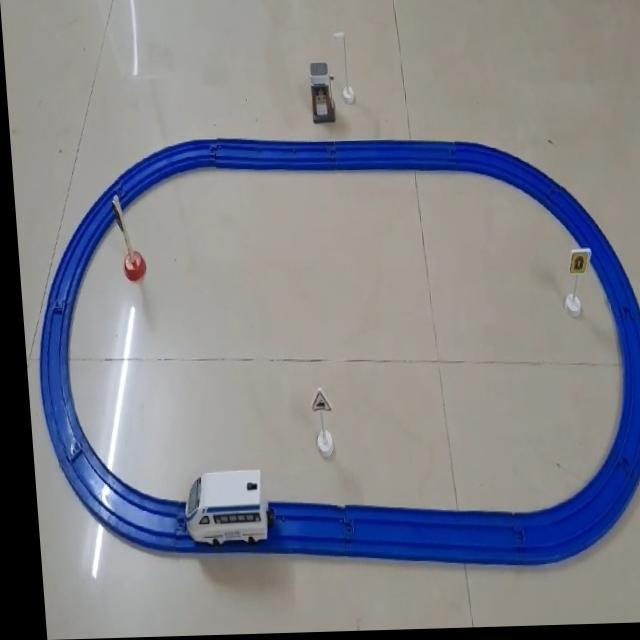bus: (174, 468, 264, 548)
